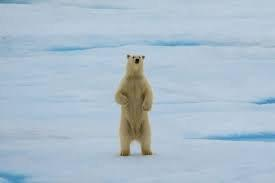bear: (112, 49, 159, 160)
